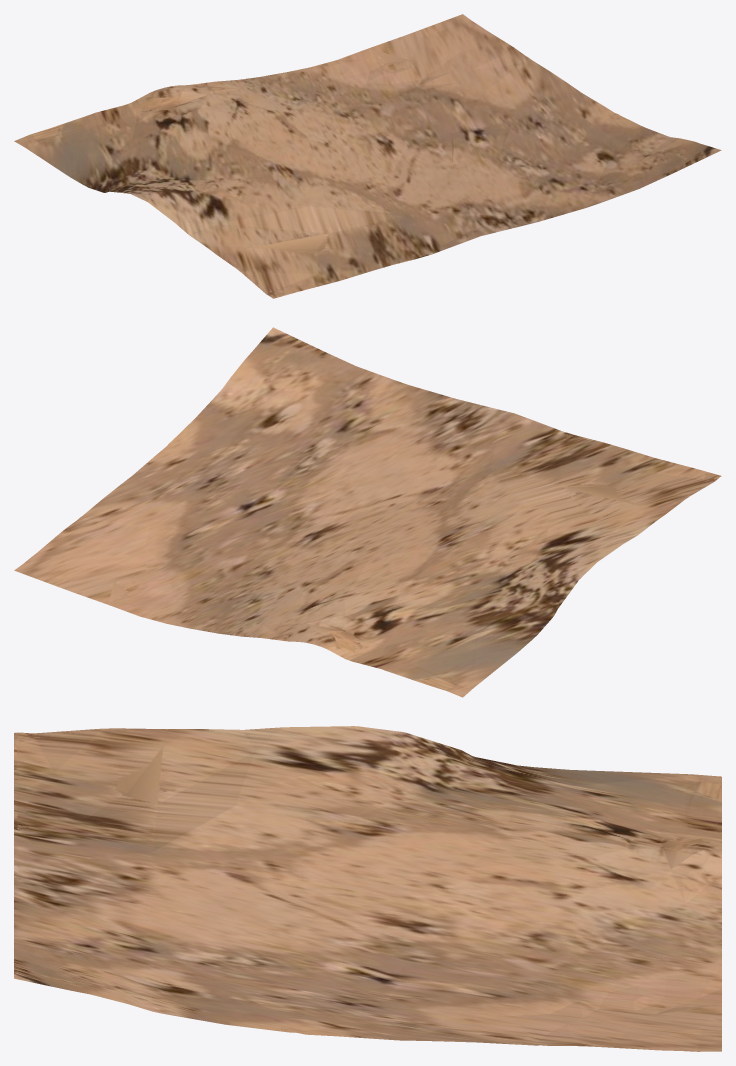
3 renders of one model, top to bottom at view 1: azimuth 30°, elevation 25°; view 2: azimuth 150°, elevation 25°; view 3: azimuth 270°, elevation 25°, orthographic. The views are drawn at different scales.
Bounding box in the file's own units: 2.09 × 0.3164 × 2.09.
2 materials, 2 textured.
